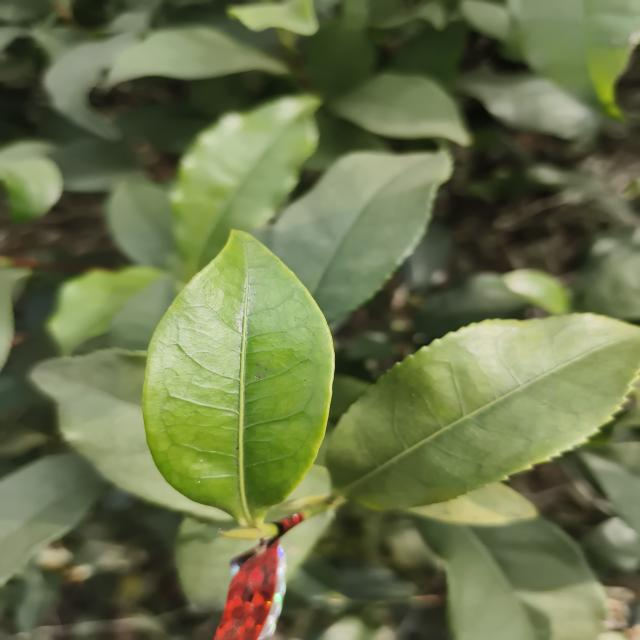Leaf: (326, 314, 640, 509), (142, 231, 334, 527), (255, 151, 453, 323), (31, 349, 230, 520), (171, 94, 320, 281), (415, 517, 606, 640), (508, 0, 640, 118), (0, 453, 106, 586), (108, 27, 288, 84), (330, 73, 471, 145), (48, 266, 161, 354), (44, 34, 134, 139), (416, 273, 528, 338), (105, 177, 176, 269), (303, 19, 376, 99), (579, 442, 640, 535), (0, 141, 63, 223), (502, 269, 570, 314)
